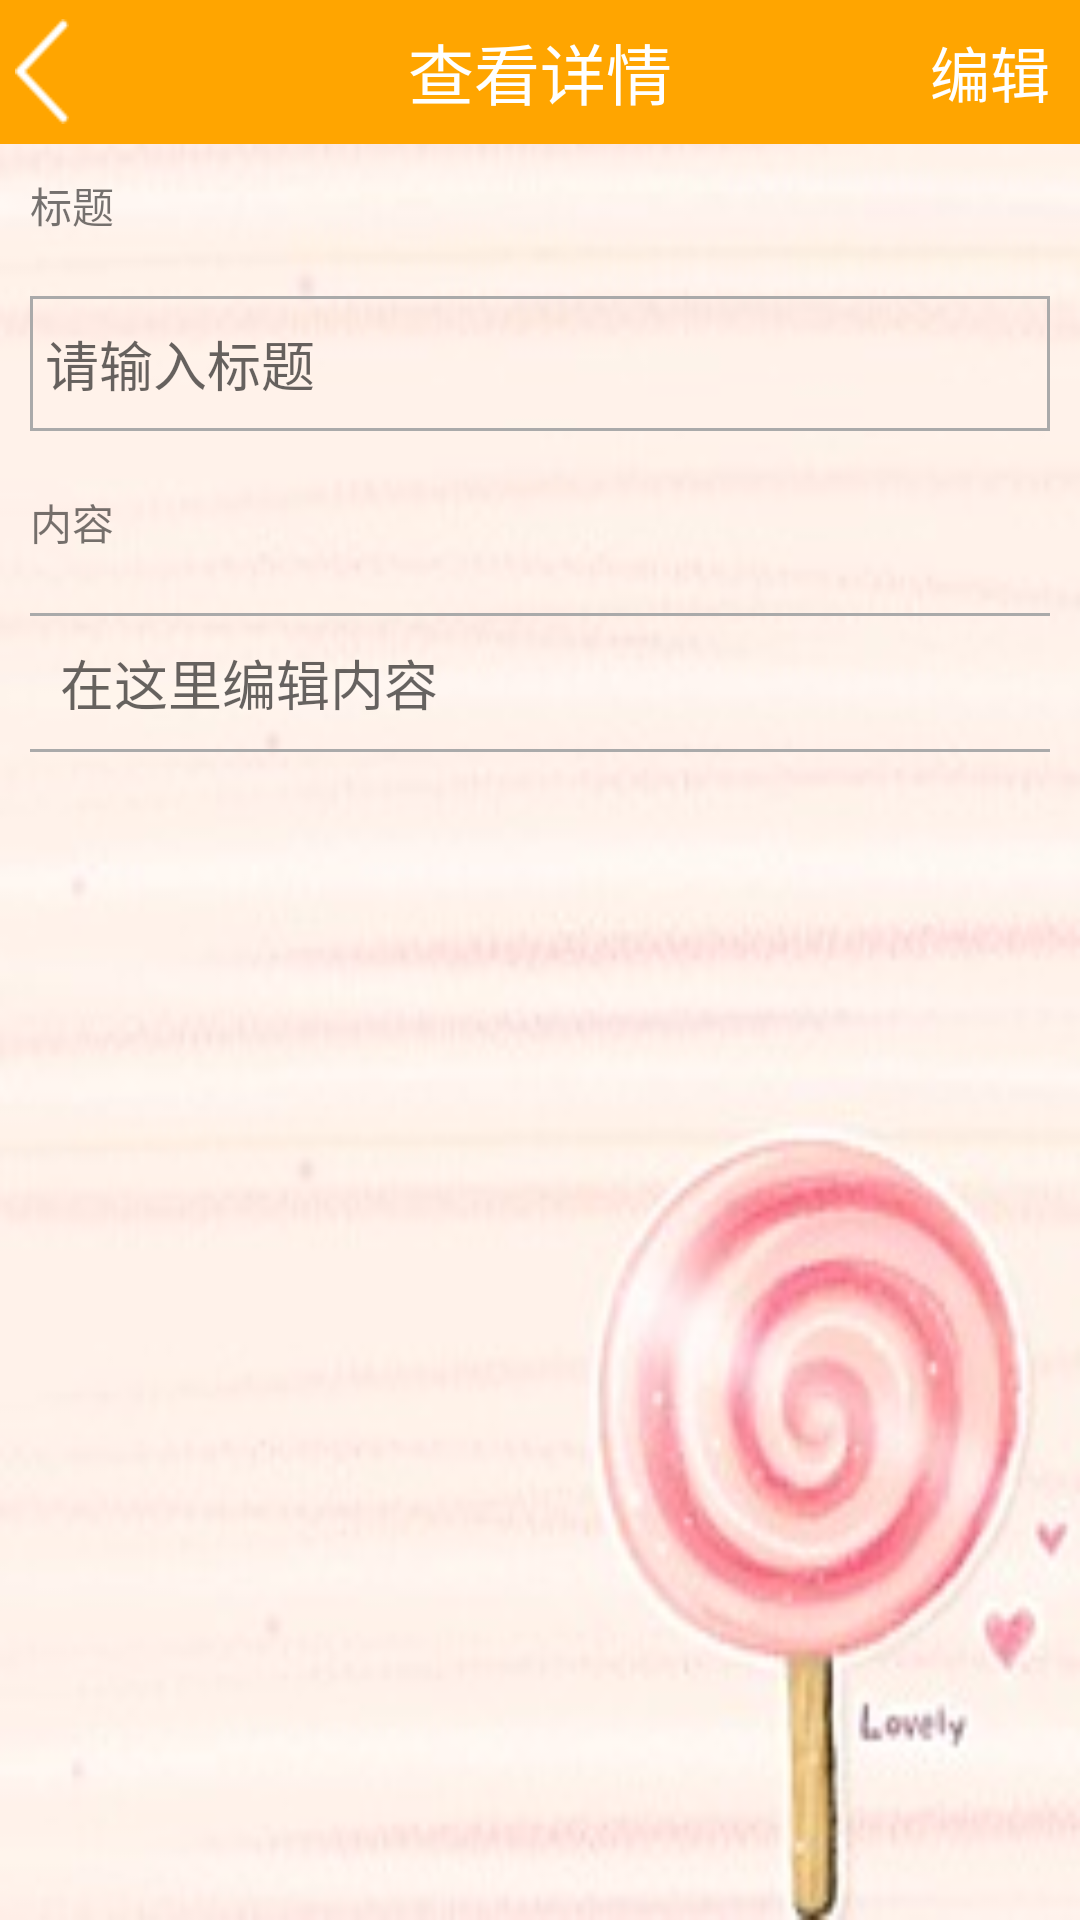

Where to tap for icons on this 1080x1920 app screen, as [x,y]:
back: [42,71]
